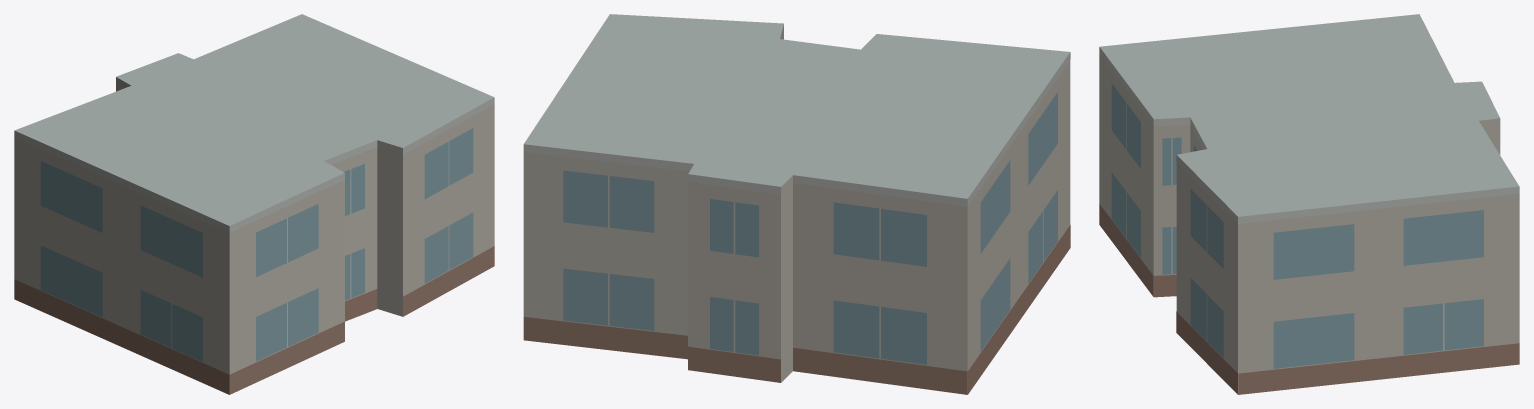
The model's file is survey-upis-32871437.glb.
The picture shows the model from 3 angles, left to right: view 1: azimuth 30°, elevation 25°; view 2: azimuth 150°, elevation 25°; view 3: azimuth 270°, elevation 25°; orthographic projection. The views are drawn at different scales.
Visible parts, largest first — view 1: survey-upis-32871437.tmp; view 2: survey-upis-32871437.tmp; view 3: survey-upis-32871437.tmp.
Boxes of the visible parts, x1,y1,x2,y2 form: survey-upis-32871437.tmp: [14, 14, 494, 394]; survey-upis-32871437.tmp: [523, 14, 1070, 394]; survey-upis-32871437.tmp: [1099, 14, 1519, 394].
Size of the model in its own units: 14.92 by 6.1 by 13.06.
